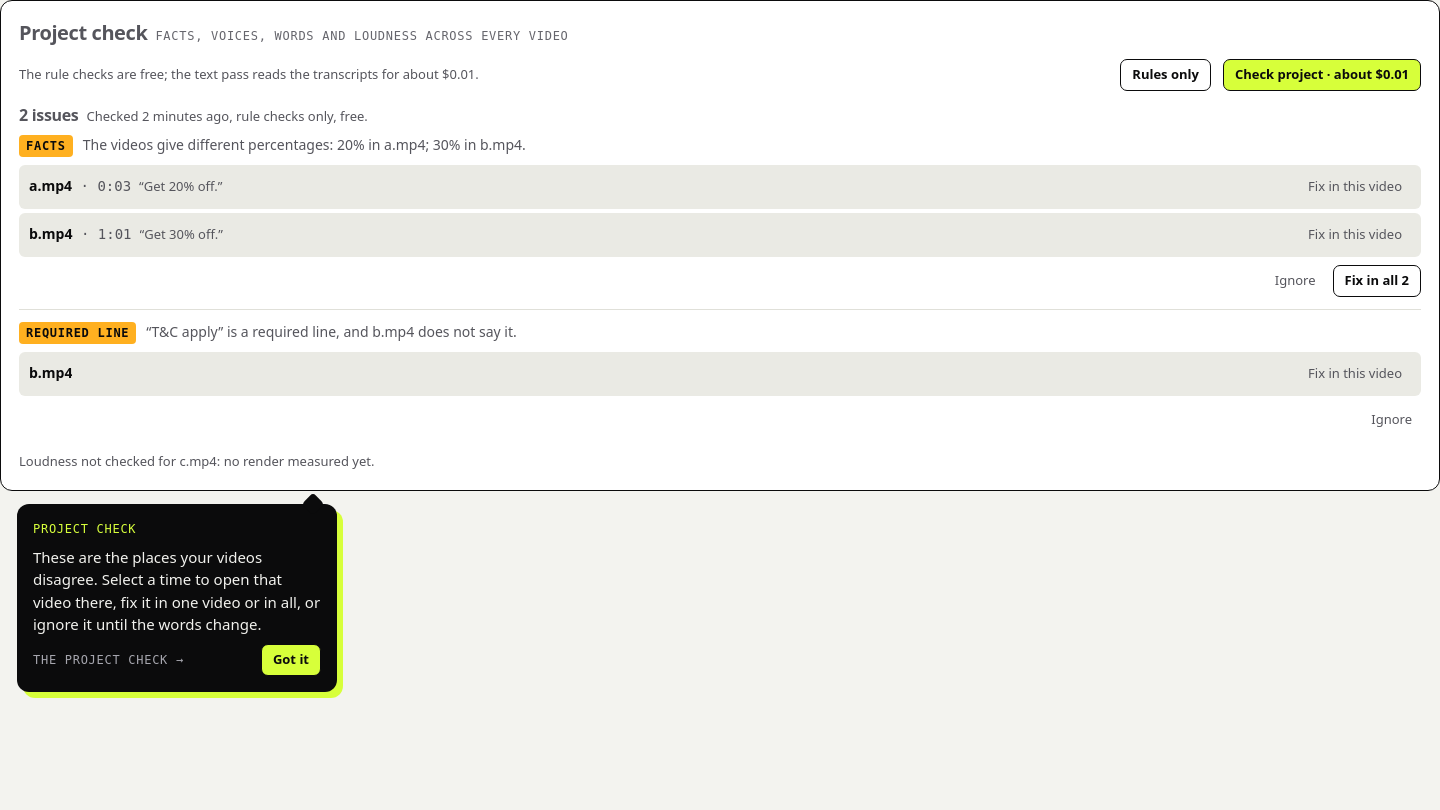
it: A2: the project check panel › names each issue with its videos and times, links into the editor, and ignores one
Expected: the number of list items with test id "check-issue" is 2, top-left (19, 131), bottom-right (1421, 309); top-left (19, 309), bottom-right (1421, 448)
Expected: the text "2 issues" is shown, top-left (19, 103), bottom-right (78, 127)
Click the 2nd button "Ignore".
click(1392, 420)  # box top-left (1362, 404), bottom-right (1421, 436)
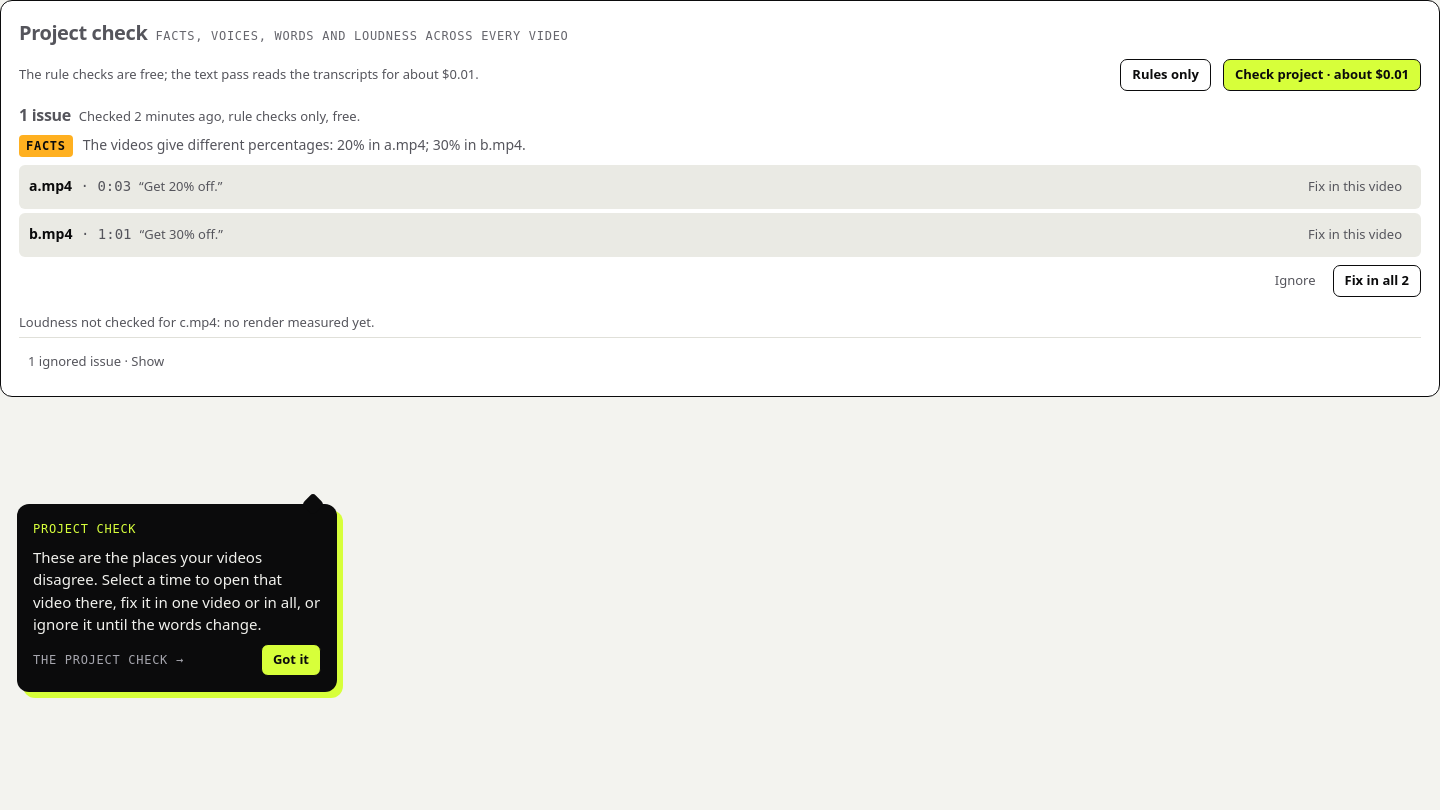
Expected: the number of list items with test id "check-issue" is 1, top-left (19, 131), bottom-right (1421, 309)
Click the button "1 ignored issue · Show".
click(96, 362)  # box top-left (19, 346), bottom-right (173, 378)
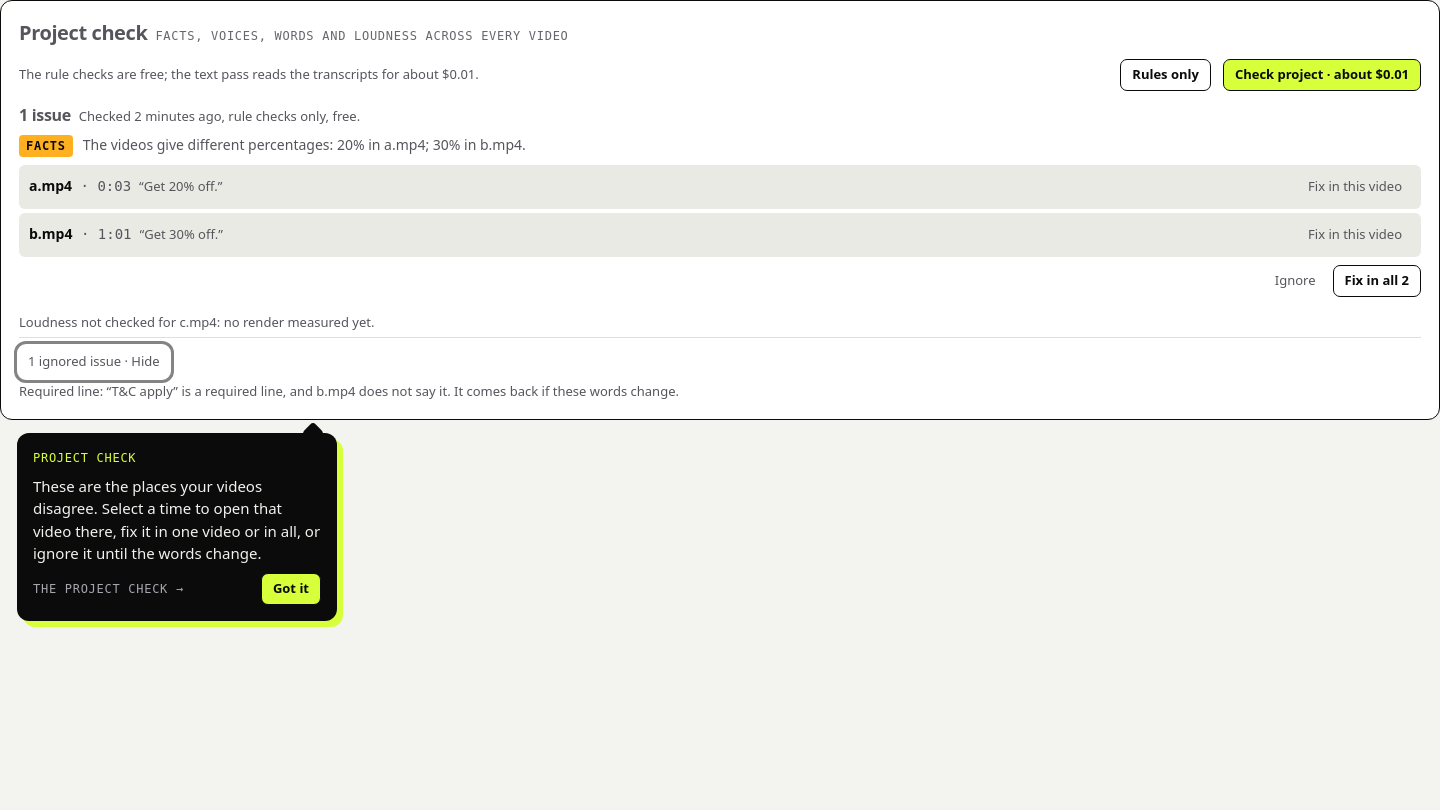
Expected: the text with test id "check-ignored" shows "It comes back if these words change.", top-left (451, 382), bottom-right (679, 400)
